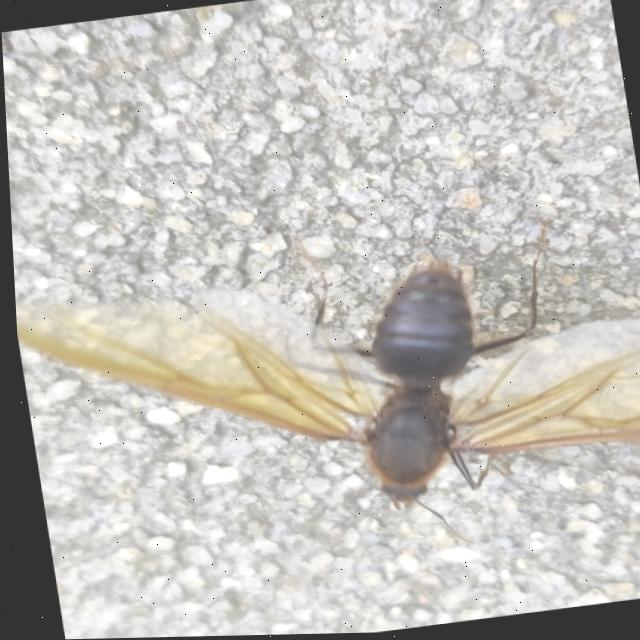Alive-Male-Alate: (9, 199, 640, 597)
